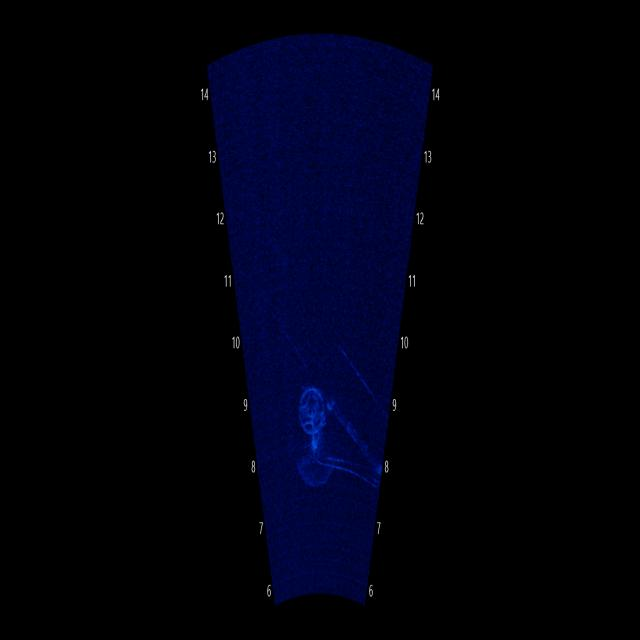circle: (290, 371, 337, 450)
